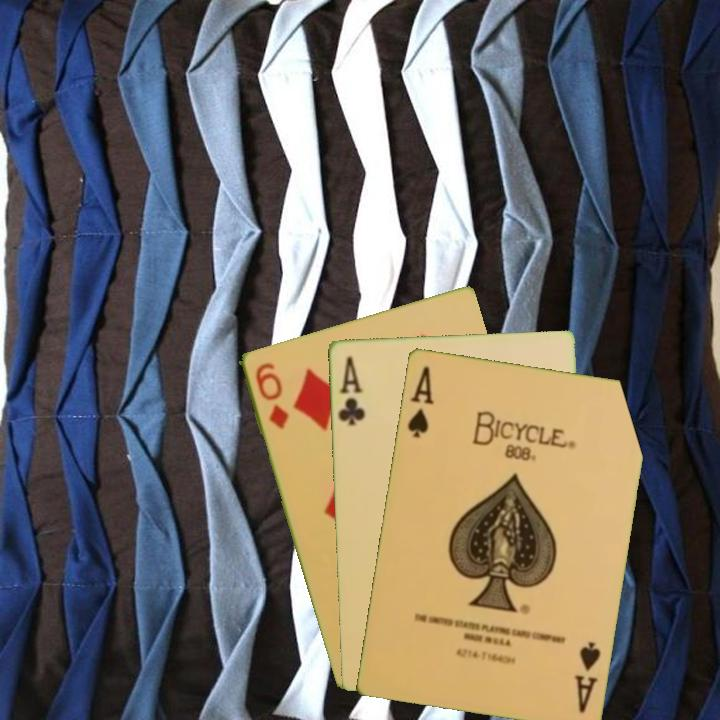6d: (251, 359, 291, 432)
Ac: (334, 352, 367, 428)
As: (404, 362, 436, 440), (571, 637, 603, 715)
